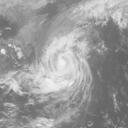cyclone: (36, 37, 92, 97)
